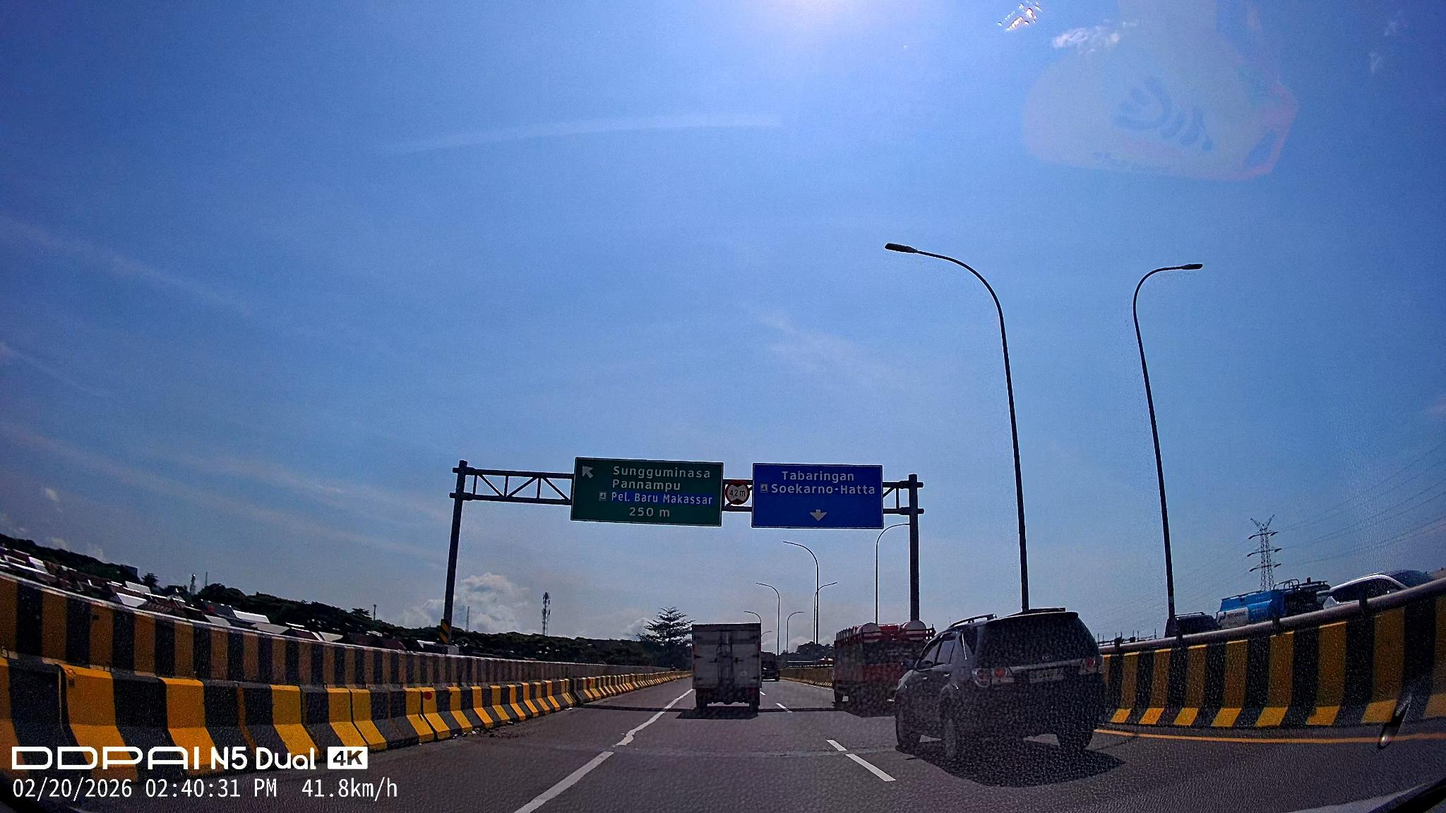rambu_teks: (571, 456, 724, 527), (751, 462, 884, 531)
